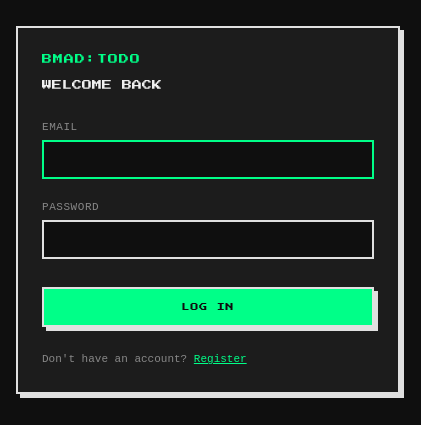
it: LoginPage › shows "Password is required" when email is filled but password is not
The width and height of the screenshot is (421, 425).
Type "user@test.com" into the field labelled "Email" at (208, 160), box [42,140,374,179]
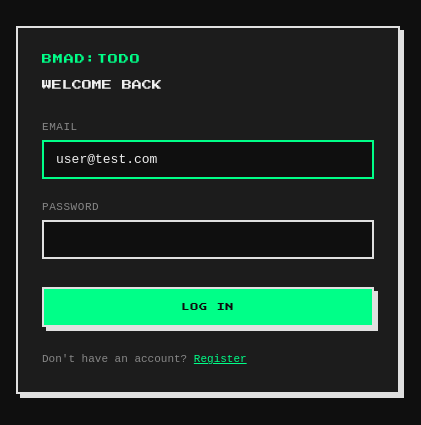
Click the button "LOG IN" at (208, 307), box [42,287,374,327]
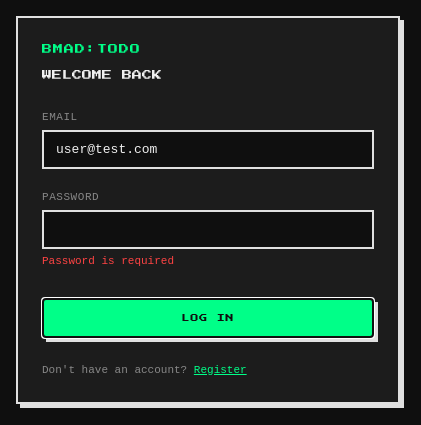
Check: the text "Password is required" is shown, box [42,255,174,267]
